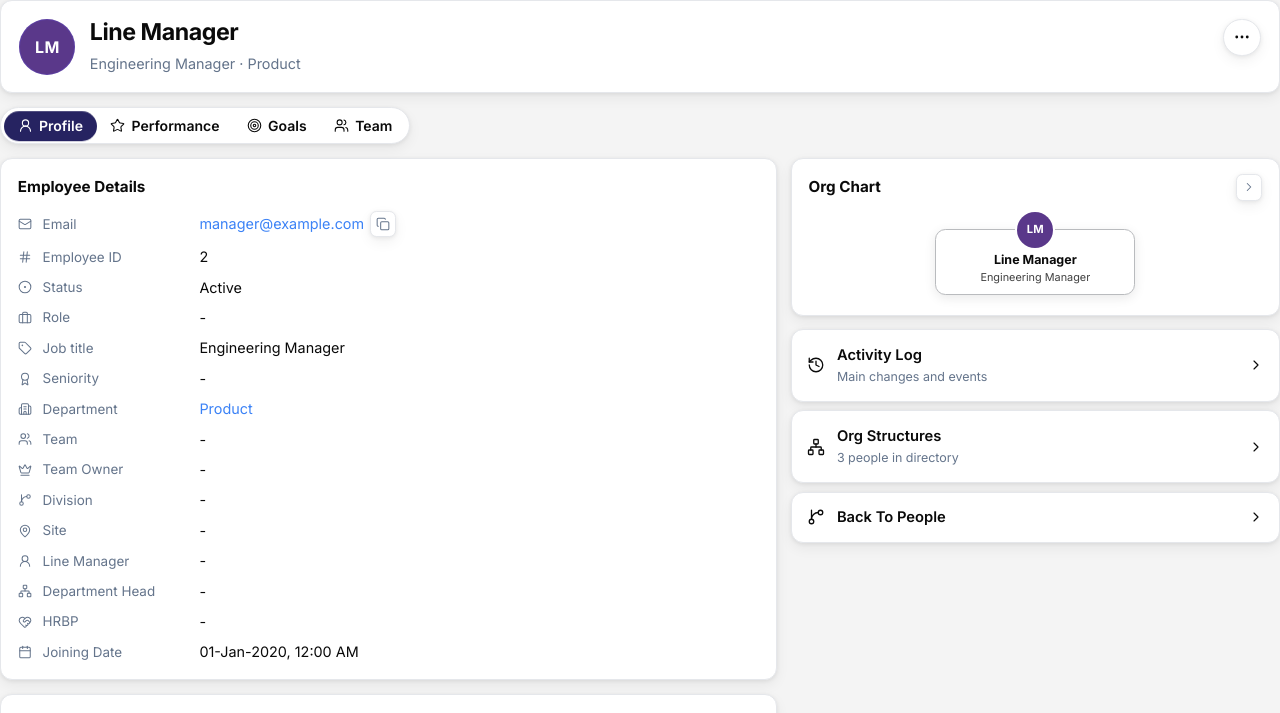
Test case: V1 employee profiles › lists direct reports on the Team tab
Click the button "Team". click: coordinates (363, 126)
box: top-left (320, 111), bottom-right (406, 140)
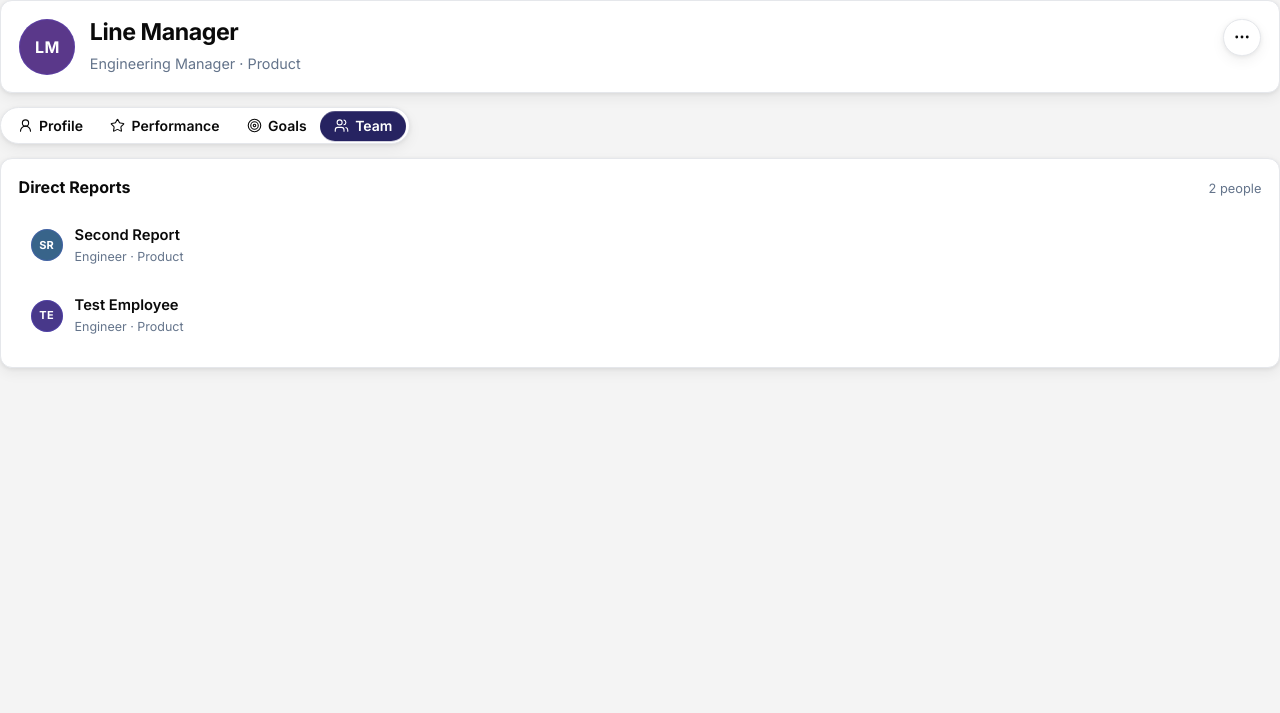
Check: the heading "Direct Reports" is shown, box top-left (19, 175), bottom-right (130, 199)
